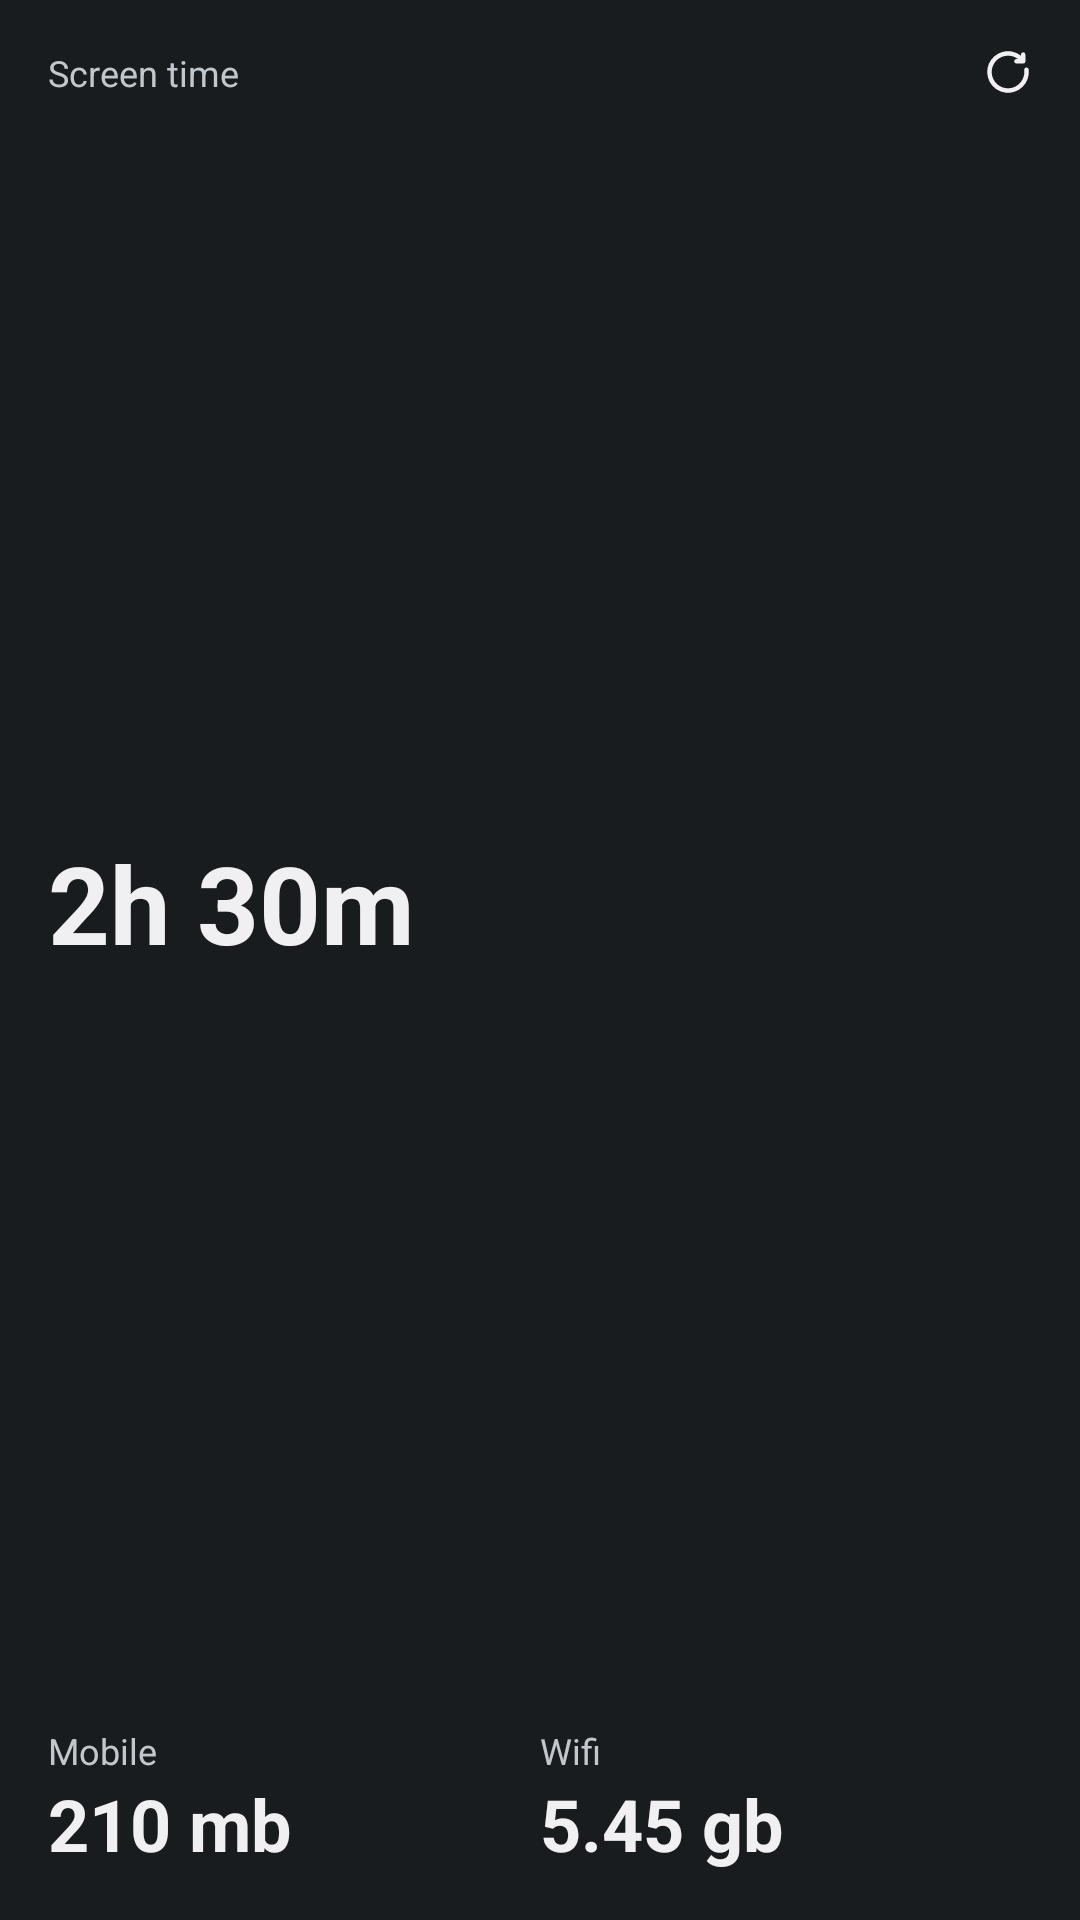

Icons on this 1080*1920 Android screen, each with the point to tap as point (x, y):
refresh: point (1008, 72)
